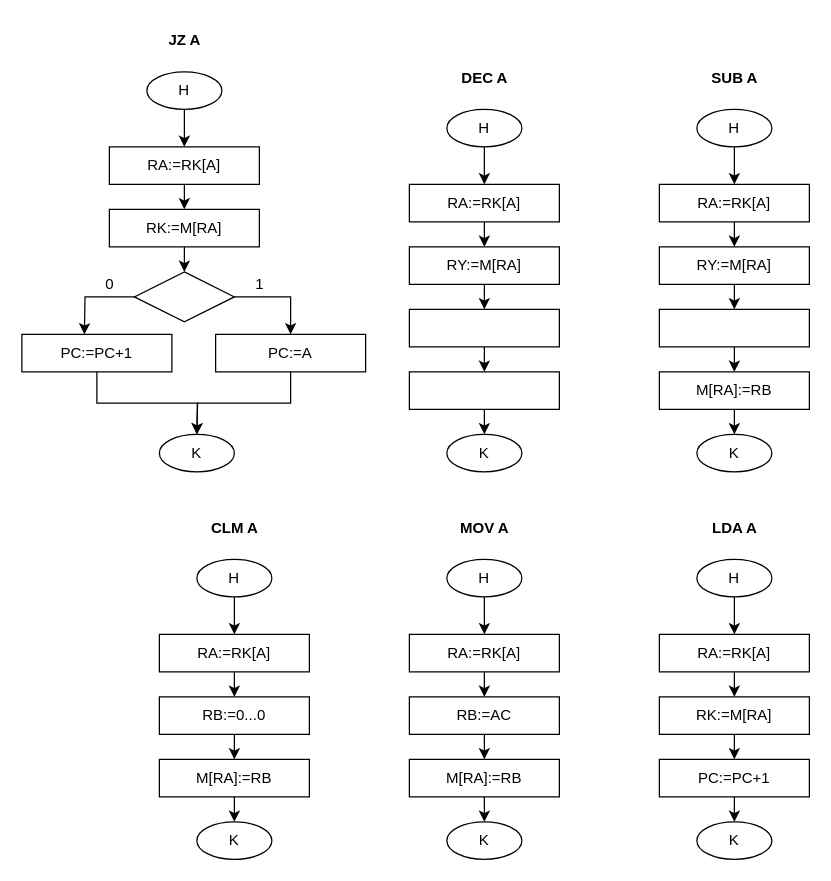
Image size: 831x881. Some labels were removed from this diagram. The centre of each missing label's shape, as x and y in pixels:
"AC:=RB" goes at [483,390].
"RB:=RB+RY" goes at [733,327].
"RB:=RB-1" goes at [483,327].
"Z=1?" goes at [183,296].
